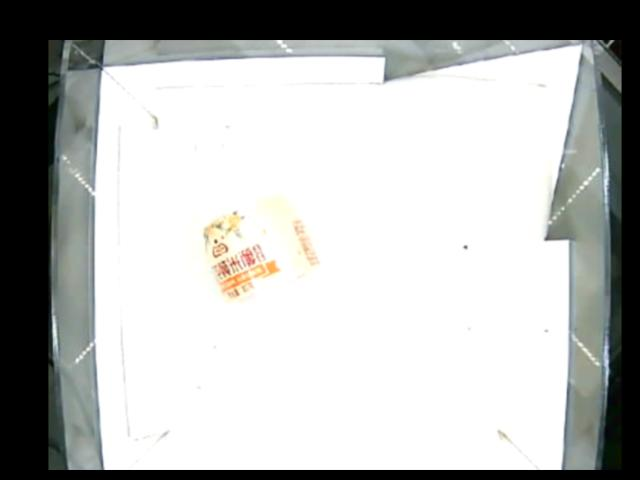Bottle: (192, 150, 325, 308)
